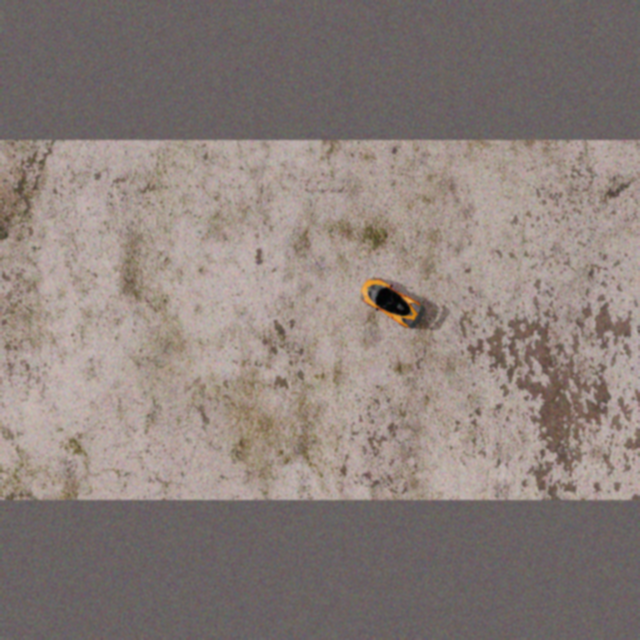car: (355, 270, 430, 332)
